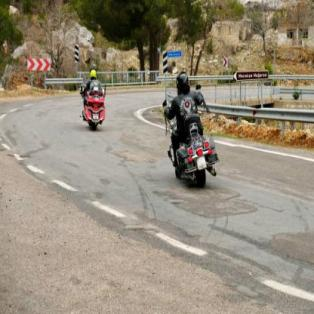Motocicleta: (154, 98, 220, 188), (76, 69, 126, 131)
